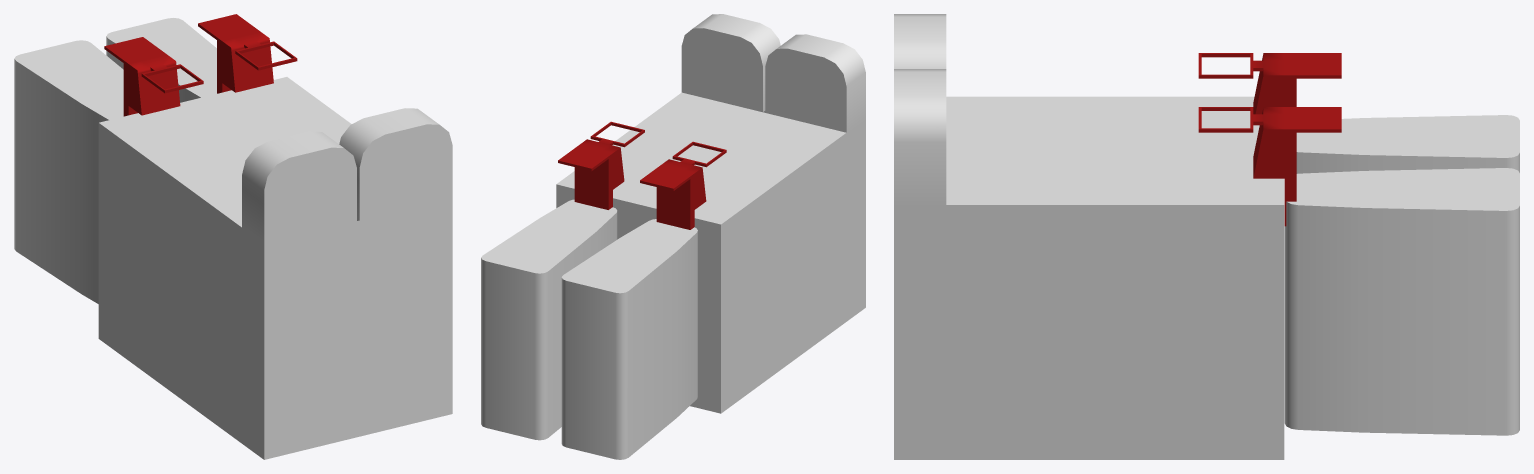
The picture shows the model from 3 angles, left to right: view 1: azimuth 30°, elevation 25°; view 2: azimuth 150°, elevation 25°; view 3: azimuth 270°, elevation 25°; orthographic projection. The views are drawn at different scales.
Parts seen in each view (by area): view 1: Cube.001; view 2: Cube.001; view 3: Cube.001.
Part boxes in pixels (box(x1,y1,x2,y2)): Cube.001: box(14, 14, 452, 459); Cube.001: box(481, 14, 865, 459); Cube.001: box(894, 14, 1519, 459).
Bounding box in the file's own units: 23.51 × 35.3 × 57.35.
